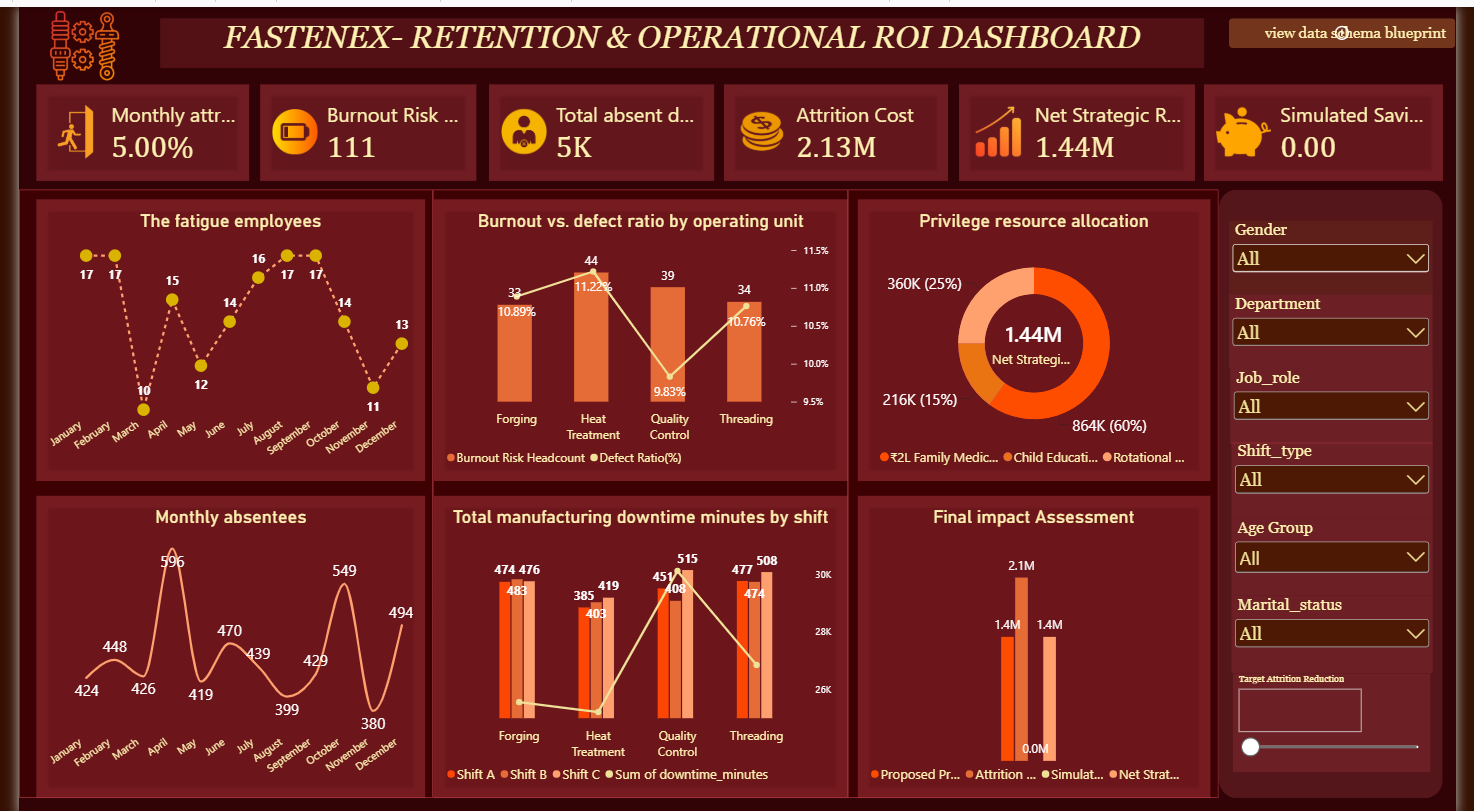

What the dashboard file says about the page in this screenshot:
{"tool":"powerbi","page":{"name":"Page 1","canvas":[1920,1080],"ordinal":0},"visuals":[{"type":"shape","box":[1107.6,244.2,495.4,812.8],"z":0},{"type":"shape","box":[552.9,244.2,554.7,812.8],"z":1000},{"type":"shape","box":[0,244.2,552.9,812.8],"z":2000},{"type":"cardVisual","fields":{"Data":["monthly_workforce.Total absent days"]},"box":[738.3,103.2,278.7,128.5],"z":3000},{"type":"lineStackedColumnComboChart","title":"Burnout vs. defect ratio by operating unit","fields":{"Category":["operations.department","operations.shift_type"],"Y":["employees.Burnout Risk Headcount"],"Y2":["dim-privileges.Monthly Defect Ratio (%)"]},"box":[554.4,257.1,552.7,375.7],"z":4000},{"type":"lineClusteredColumnComboChart","title":"Total manufacturing downtime minutes by shift","fields":{"Category":["operations.department"],"Y2":["Sum(monthly_workforce.downtime_minutes)"],"Y":["Sum(monthly_workforce.absent_days)"],"Series":["operations.shift_type"]},"box":[554.4,652.9,552.7,404.1],"z":5000},{"type":"clusteredColumnChart","title":"Final impact Assessment","fields":{"Y":["employees.Proposed Program Cost","employees.Attrition Cost","employees.Simulated Savings","employees.Net Strategic ROI"]},"box":[1120.4,652.9,470.9,404.1],"z":6000},{"type":"donutChart","title":"Privilege resource allocation","fields":{"Category":["dim-privileges.privilege name"],"Y":["dim-privileges.Dynamic Slice Value"]},"box":[1120.4,257.1,470.9,375.7],"z":7000},{"type":"cardVisual","fields":{"Data":["employees.Attrition Cost"]},"box":[1031.5,103.2,264.2,128.5],"z":8000},{"type":"cardVisual","fields":{"Data":["employees.Simulated Savings"]},"box":[1616,103.2,285.9,128.5],"z":9000},{"type":"cardVisual","fields":{"Data":["employees.Net Strategic ROI"]},"box":[1308.4,103.2,295,128.5],"z":10000},{"type":"cardVisual","fields":{"Data":["employees.Burnout Risk Headcount"]},"box":[389.1,103.2,334.8,128.5],"z":11000},{"type":"image","box":[0,0,175.3,103.5],"z":12000},{"type":"shape","box":[1603,243.8,298.9,813.2],"z":13000},{"type":"actionButton","box":[1616,14.5,302.2,39.8],"z":14000},{"type":"textbox","box":[188.9,14.7,1394,66],"z":15000},{"type":"slicer","fields":{"Values":["employees.gender"]},"box":[1616.3,285.5,272.2,98.5],"z":16000},{"type":"slicer","fields":{"Values":["operations.department"]},"box":[1616.3,384,272.2,98.5],"z":17000},{"type":"slicer","fields":{"Values":["employees.Age Group"]},"box":[1619.7,682.9,268.8,103.5],"z":18000},{"type":"slicer","fields":{"Values":["operations.job_role"]},"box":[1618,482.6,270.5,98.5],"z":19000},{"type":"slicer","fields":{"Values":["operations.shift_type"]},"box":[1619.7,581.1,268.8,101.9],"z":20000},{"type":"cardVisual","fields":{"Data":["employees.Attrition Rate(%)"]},"box":[23.5,103.2,345.6,128.5],"z":21000},{"type":"slicer","fields":{"Values":["employees.marital_status"]},"box":[1619.7,786.5,268.8,103.5],"z":22000},{"type":"lineChart","title":"The fatigue employees","fields":{"Y":["employees.Burnout Risk Headcount"],"Category":["monthly_workforce.snapshot_date.Variation.Date Hierarchy.Month"]},"box":[23.4,257.1,519.3,375.7],"z":23000},{"type":"lineChart","title":"Monthly absentees","fields":{"Y":["monthly_workforce.Total absent days"],"Category":["monthly_workforce.snapshot_date.Variation.Date Hierarchy.Month"]},"box":[23.4,652.9,519.3,404.1],"z":24000},{"type":"slicer","fields":{"Values":["target attrition Reduction.target attrition Reduction"]},"box":[1621.3,890,263.8,131.9],"z":26000}]}

Visuals, with their boxes in screenshot pixels (x1, y1, x2, y2), scaled from the page's 1920x1080 canvas onto the 1474x811 screenshot:
shape: locate(850, 183, 1231, 794)
shape: locate(424, 183, 850, 794)
shape: locate(0, 183, 424, 794)
cardVisual - monthly_workforce.Total absent days: locate(567, 77, 781, 174)
"Burnout vs. defect ratio by operating unit" lineStackedColumnComboChart: locate(426, 193, 850, 475)
"Total manufacturing downtime minutes by shift" lineClusteredColumnComboChart: locate(426, 490, 850, 794)
"Final impact Assessment" clusteredColumnChart: locate(860, 490, 1222, 794)
"Privilege resource allocation" donutChart: locate(860, 193, 1222, 475)
cardVisual - employees.Attrition Cost: locate(792, 77, 995, 174)
cardVisual - employees.Simulated Savings: locate(1241, 77, 1460, 174)
cardVisual - employees.Net Strategic ROI: locate(1004, 77, 1231, 174)
cardVisual - employees.Burnout Risk Headcount: locate(299, 77, 556, 174)
image: locate(0, 0, 135, 78)
shape: locate(1231, 183, 1460, 794)
actionButton: locate(1241, 11, 1473, 41)
textbox: locate(145, 11, 1215, 61)
slicer - employees.gender: locate(1241, 214, 1450, 288)
slicer - operations.department: locate(1241, 288, 1450, 362)
slicer - employees.Age Group: locate(1243, 513, 1450, 591)
slicer - operations.job_role: locate(1242, 362, 1450, 436)
slicer - operations.shift_type: locate(1243, 436, 1450, 513)
cardVisual - employees.Attrition Rate(%): locate(18, 77, 283, 174)
slicer - employees.marital_status: locate(1243, 591, 1450, 668)
"The fatigue employees" lineChart: locate(18, 193, 417, 475)
"Monthly absentees" lineChart: locate(18, 490, 417, 794)
slicer - target attrition Reduction.target attrition Reduction: locate(1245, 668, 1447, 767)
